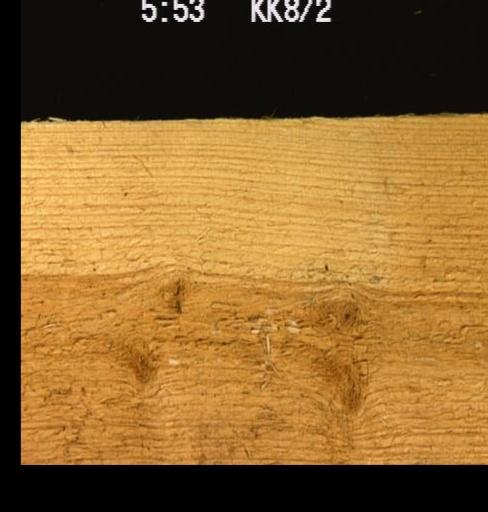sound_knot: (315, 344, 375, 413), (114, 339, 159, 383), (156, 275, 186, 319), (335, 295, 358, 328)
